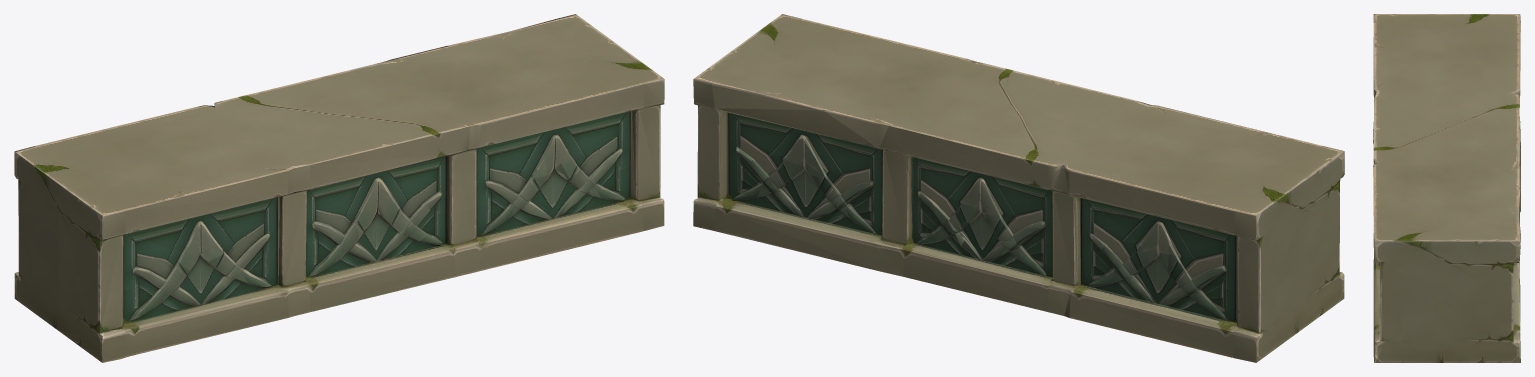
File: lintel.glb
The picture shows the model from 3 angles, left to right: view 1: azimuth 30°, elevation 25°; view 2: azimuth 150°, elevation 25°; view 3: azimuth 270°, elevation 25°; orthographic projection. The views are drawn at different scales.
Visible parts, largest first — view 1: lintel; view 2: lintel; view 3: lintel.
Part boxes in pixels (left/top/right/bottom): lintel: left=14, top=14, right=664, bottom=362; lintel: left=693, top=14, right=1344, bottom=362; lintel: left=1373, top=14, right=1520, bottom=362.
Bounding box in the file's own units: 1 × 0.25 × 0.275.
Materials: 1 (1 with a texture image).
